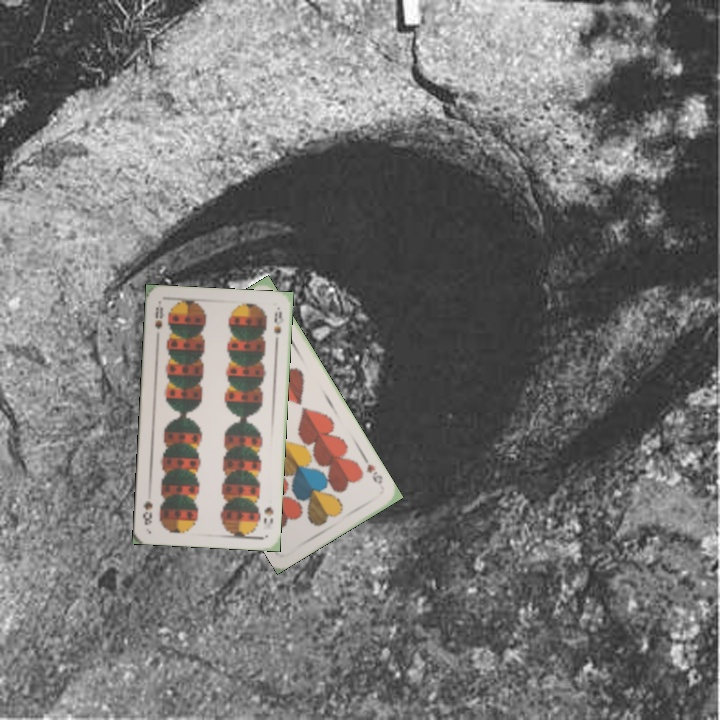H9: (361, 460, 386, 487)
S8: (151, 303, 167, 332), (260, 503, 276, 527)
